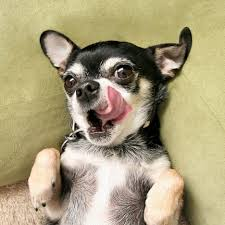chihuahua: (15, 18, 203, 225)
